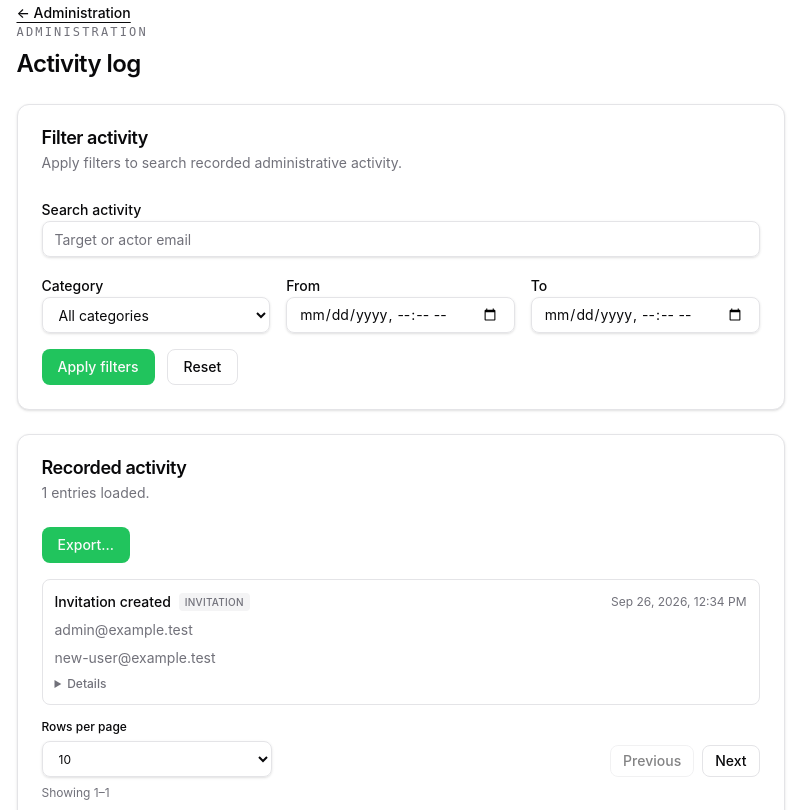
Test: AdminActivityPage › applies search, category, and date filters only after the filter form is submitted
Expected: the text "Invitation created" is shown, [54,592,171,612]
Type "admin@example.test" into the search field labelled "Search activity".
click(400, 239); type("admin@example.test")  # box [42,221,760,257]
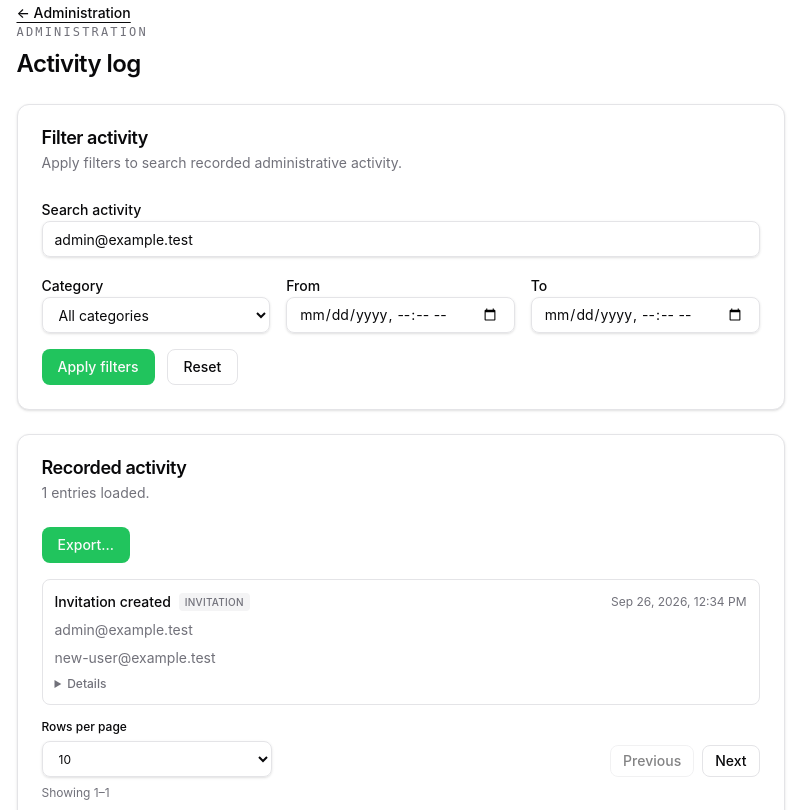
Select "Invitation" in the dropdown labelled "Category" at x=156, y=315, box [42,297,270,333]
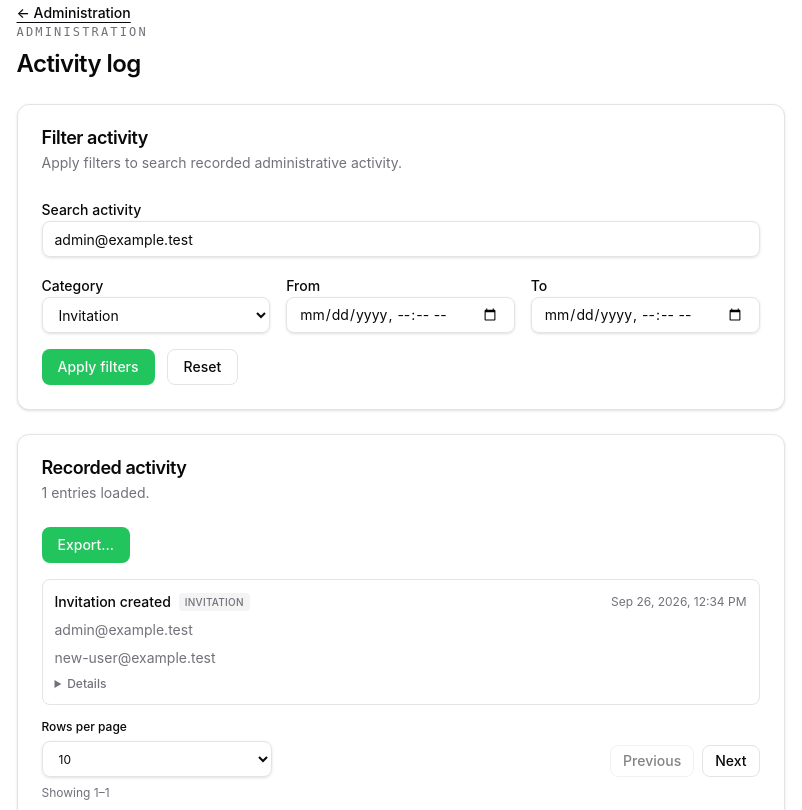
Type "2026-09-25T10:30" into the field labelled "From".
click(401, 315); type("2026-09-25T10:30")  # box [286,297,515,333]
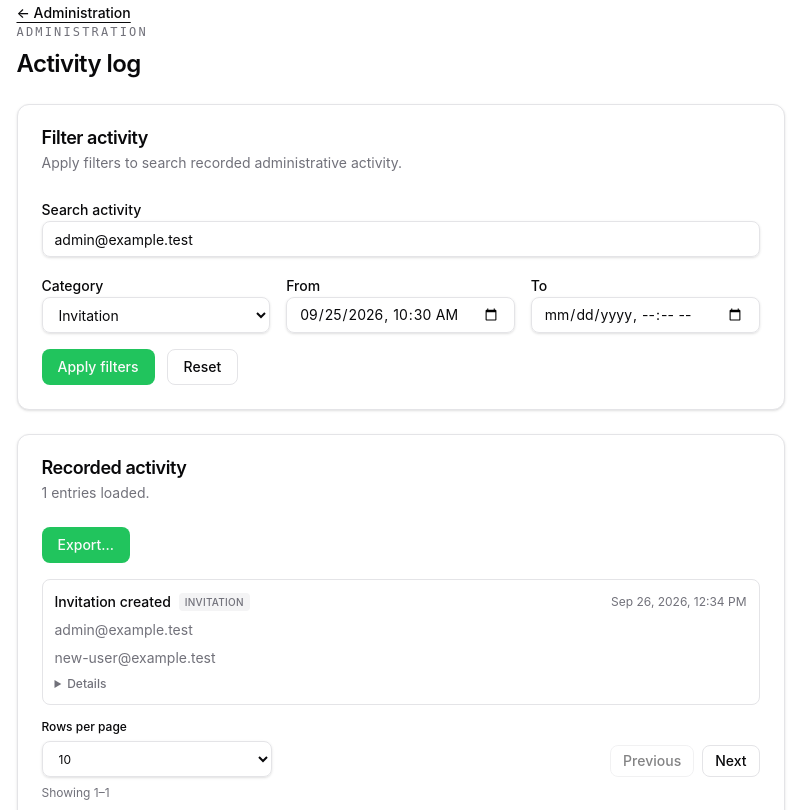
Type "2026-09-26T10:30" into the field labelled "To".
click(645, 315); type("2026-09-26T10:30")  # box [531,297,760,333]
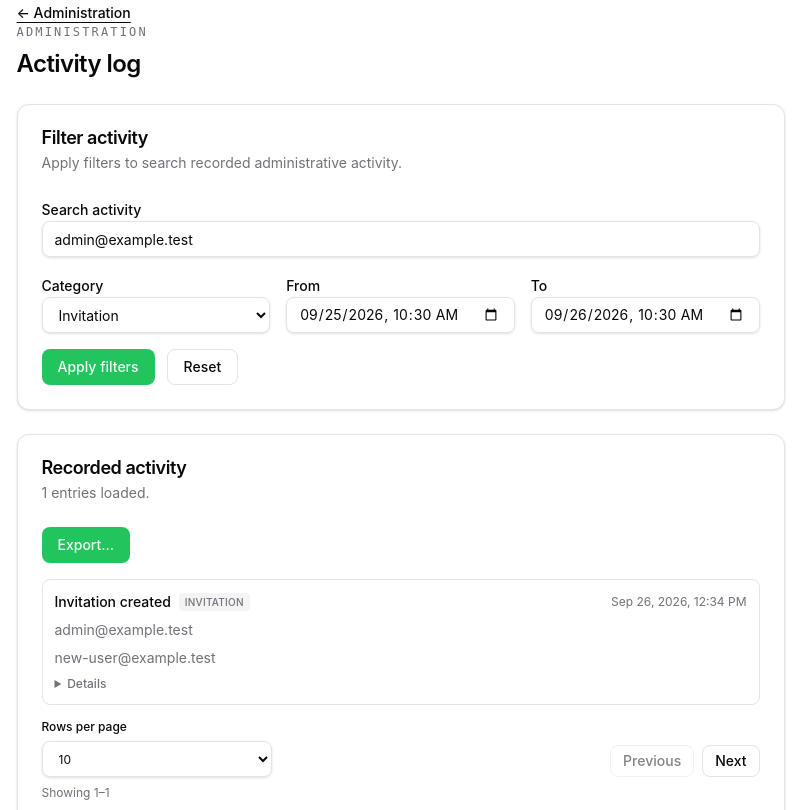
Submit the form "Apply filters", box [42,197,760,385]
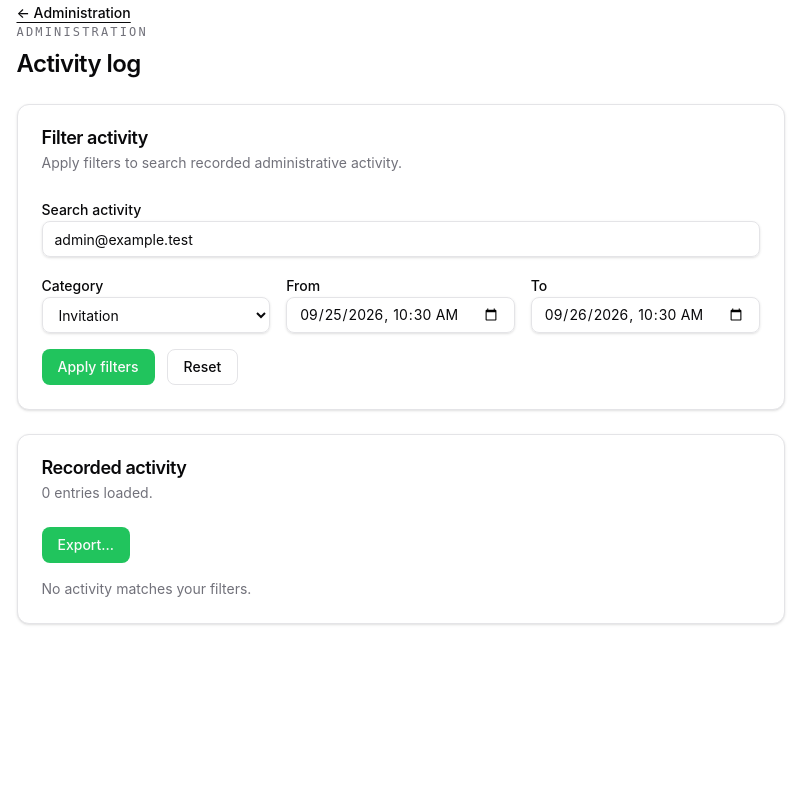
Expected: the text "No activity matches your filters." is shown, [42,580,251,597]
